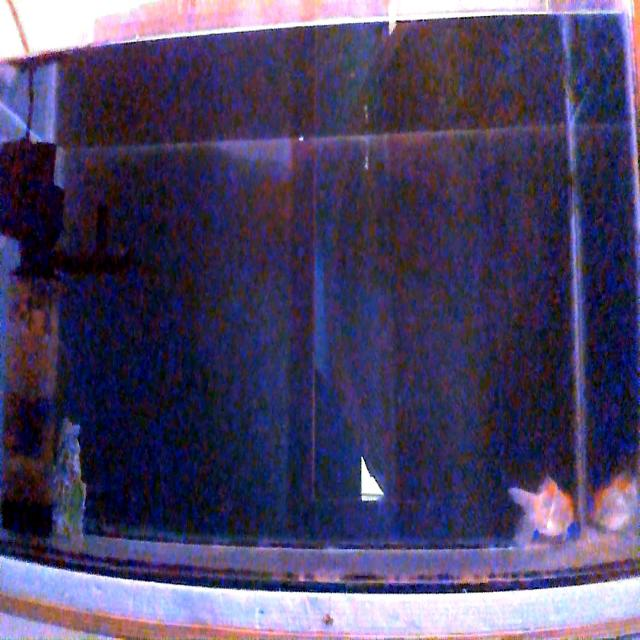fish: (508, 478, 576, 543), (593, 471, 639, 534)
